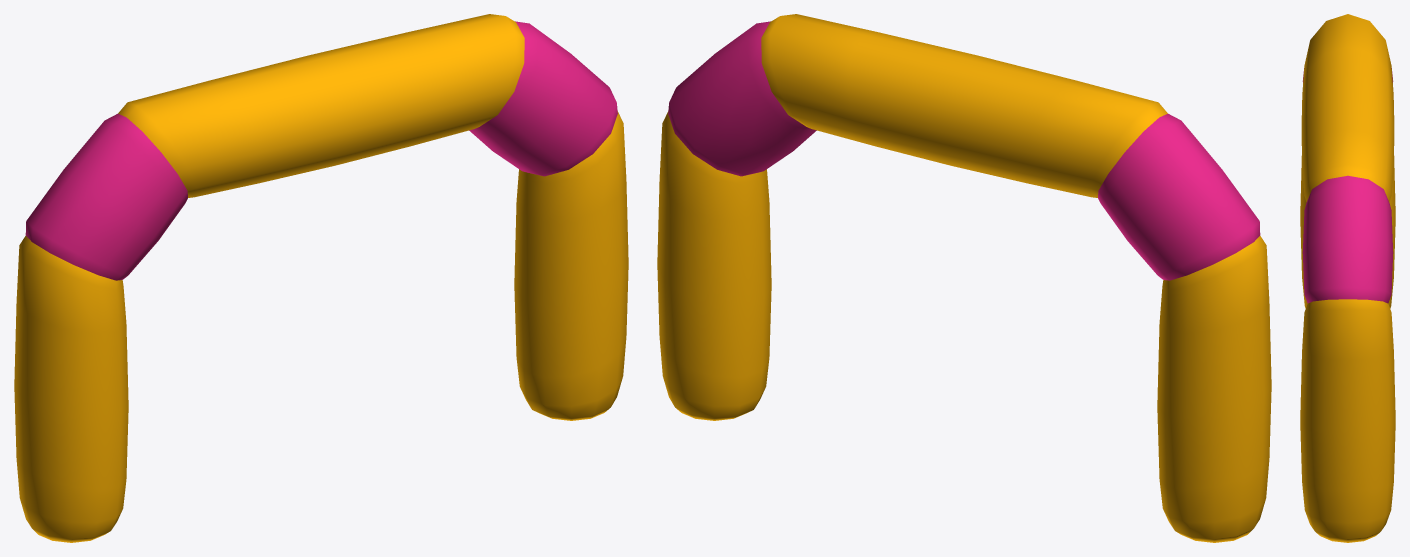
The model's file is checkpoint_003.glb.
3 views of the same model, side by side, from view 1: azimuth 30°, elevation 25°; view 2: azimuth 150°, elevation 25°; view 3: azimuth 270°, elevation 25° (orthographic). The views are drawn at different scales.
Visible parts, largest first — view 1: checkpoint_003; view 2: checkpoint_003; view 3: checkpoint_003.
Boxes of the visible parts, bbox=[...] form: checkpoint_003: bbox=[14, 14, 628, 542]; checkpoint_003: bbox=[657, 14, 1271, 542]; checkpoint_003: bbox=[1300, 14, 1395, 542].
Bounding box in the file's own units: 9.5 × 6.17 × 1.57.
1 material, 1 textured.
